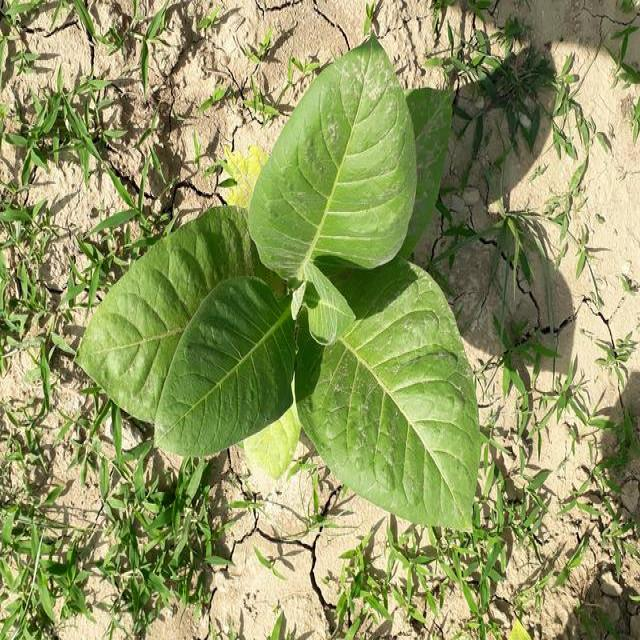crop: (88, 36, 475, 542)
